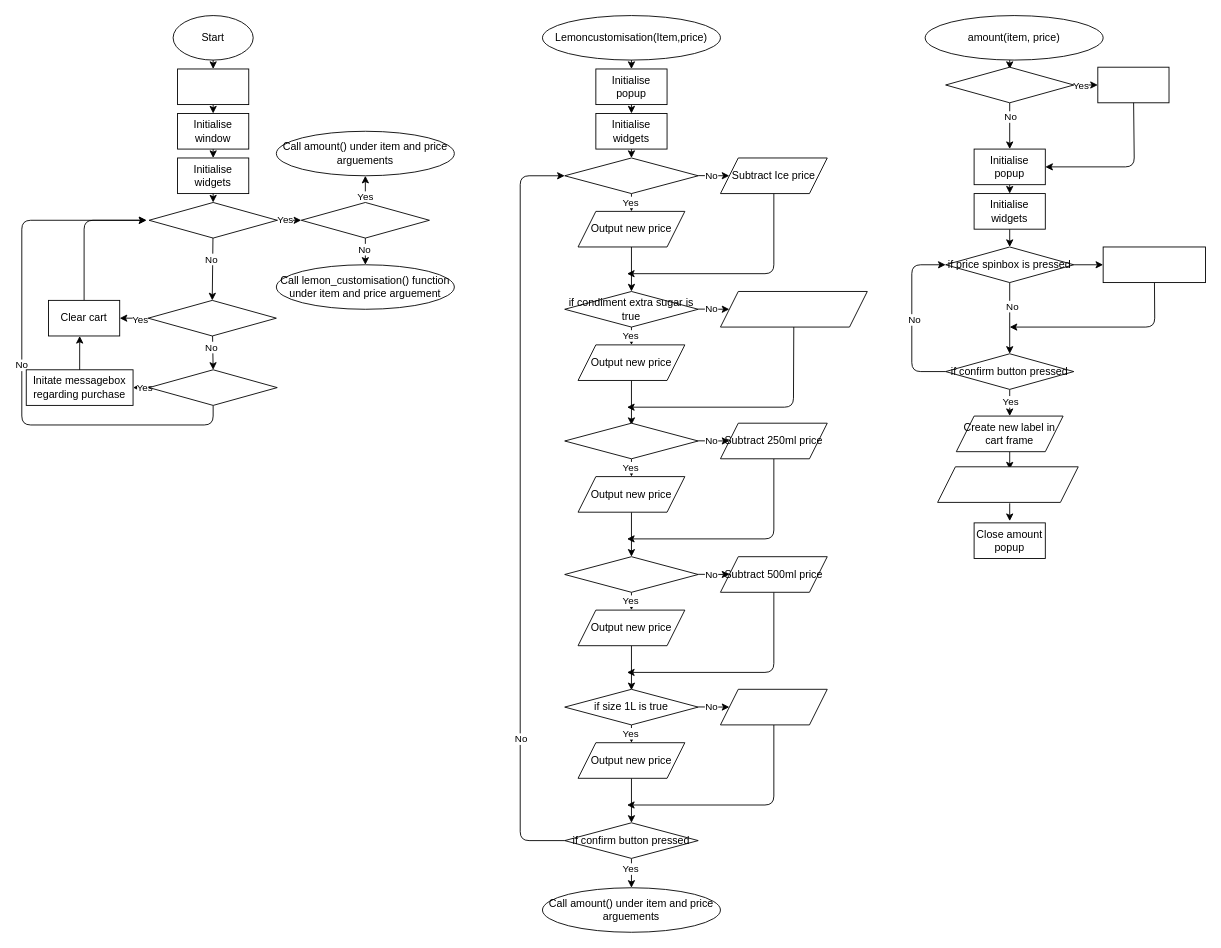
Image size: 1221x948. Some labels were removed from this diagram. The centre of each missing label's shape, as x and y in pixels:
"Change amount desired spinbox" belongs at [1154,264].
"Close lemonade popup" belongs at [1133,84].
"if any item button pushed" belongs at [212,220].
"if clear cart button pushed" belongs at [211,317].
"if condiment ice is true" belongs at [631,175].
"if Item button pushed is not lemonade" belongs at [364,220].
"if lemonade popup is open" belongs at [1009,84].
"if purchase button pushed" belongs at [212,387].
"if size 250ml is true" belongs at [631,440].
"if size 500ml is true" belongs at [631,574].
"Modify label with current values(amount, item, price)" belongs at [1007,484].
"State menu item prices" belongs at [213,86].
"Subtract 1L price" belongs at [773,706].
"Subtract extra sugar price" belongs at [793,309].
